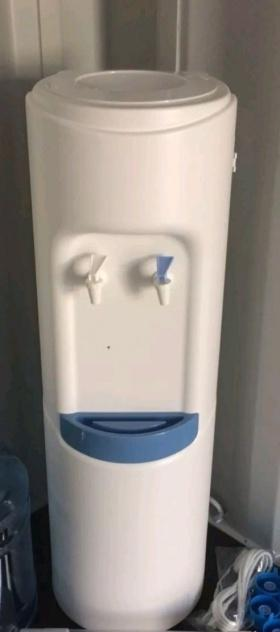Dispenser: (22, 65, 238, 631)
